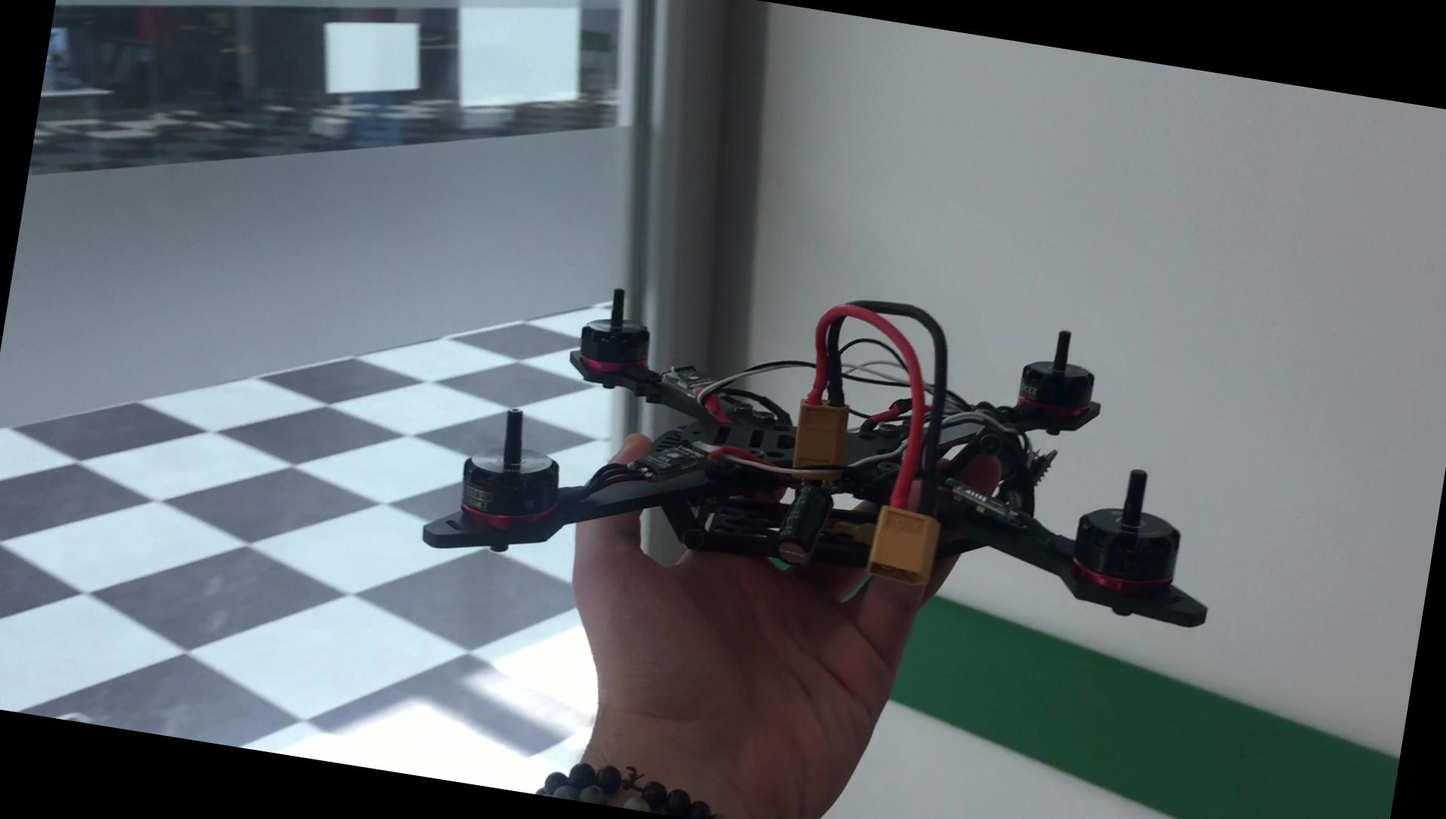drone: (432, 217, 1267, 671)
